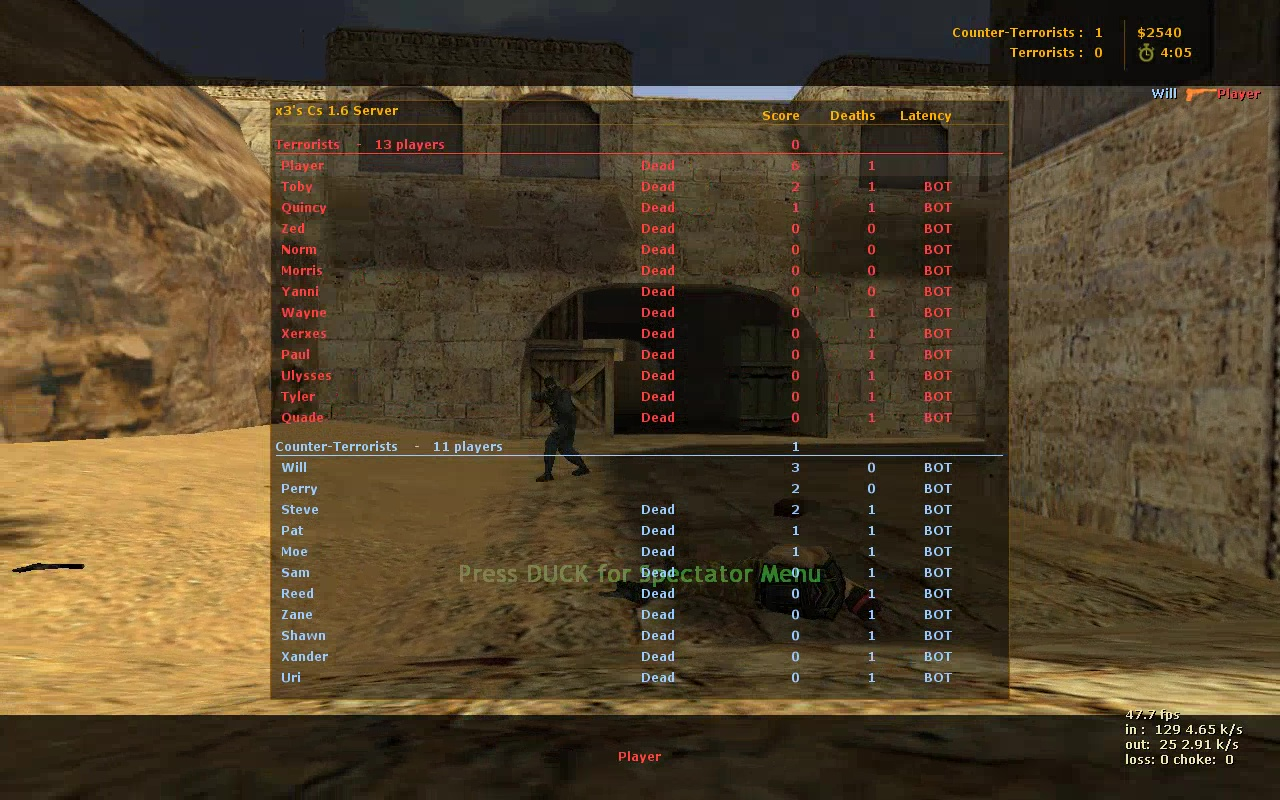ct: (526, 377, 596, 483)
dead: (609, 544, 881, 629)
